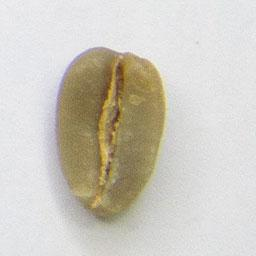longberry: (52, 43, 170, 222)
